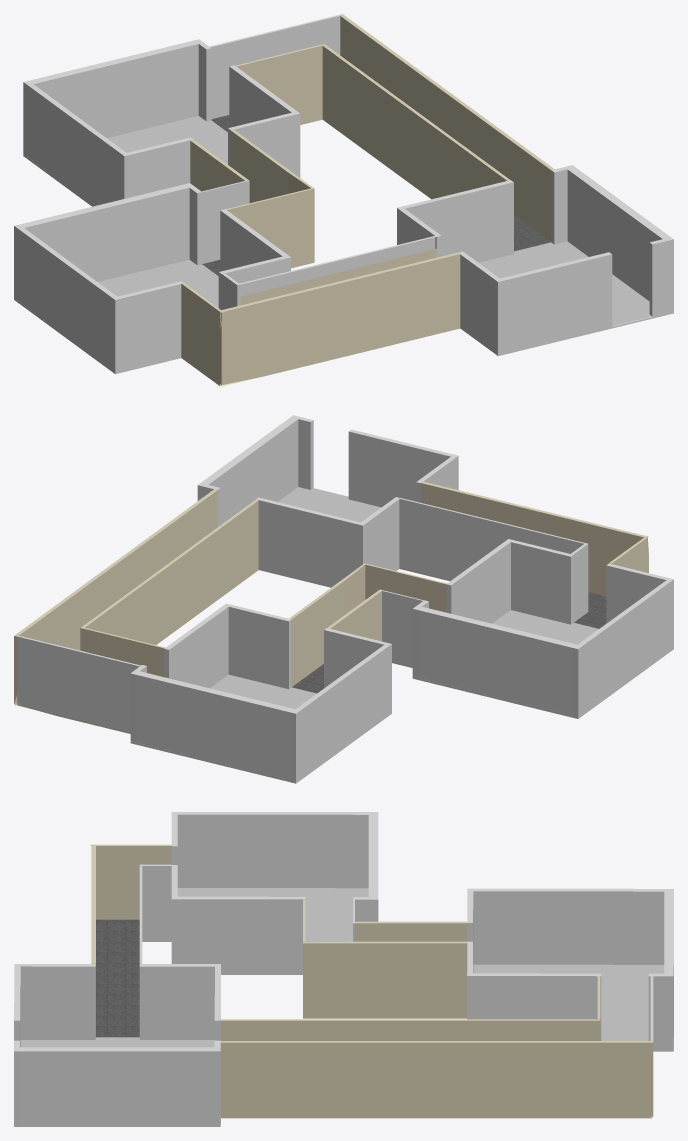
File: museum.fbx
The picture shows the model from 3 angles, top to bottom: view 1: azimuth 30°, elevation 25°; view 2: azimuth 150°, elevation 25°; view 3: azimuth 270°, elevation 25°; orthographic projection. The views are drawn at different scales.
Visible parts, largest first — view 1: Cube.003, Salle.002, couloir1.002, Salle, Salle.001, Salle.005, Salle.006, Cube.001, Salle.003, Cube.005, Cube.002, floor (+10 smaller); view 2: Cube.003, Salle.001, Salle, Salle.002, Salle.005, Salle.006, Salle.004, Cube.005, couloir1.003, Cube.001, couloir1.002, Salle.007 (+8 smaller); view 3: Cube.003, Salle, Salle.002, Salle.001, Cube.001, Salle.004, floor2.004, floor.001, couloir1.001, floor.002, Salle.006, couloir1.004 (+4 smaller).
Part boxes in pixels (x1,y1,x2,y2): Cube.003: [322, 14, 554, 241]; Salle.002: [459, 165, 673, 356]; couloir1.002: [219, 248, 460, 384]; Salle: [14, 209, 287, 374]; Salle.001: [23, 65, 300, 206]; Salle.005: [20, 183, 202, 281]; Salle.006: [29, 39, 211, 137]; Cube.001: [190, 130, 314, 268]; Salle.003: [405, 182, 513, 262]; Cube.005: [209, 15, 340, 118]; Cube.002: [235, 44, 322, 124]; floor: [479, 241, 651, 326]; Cube.003: [14, 489, 258, 708]; Salle.001: [130, 603, 391, 783]; Salle: [412, 541, 673, 718]; Salle.002: [197, 415, 458, 587]; Salle.005: [412, 600, 576, 716]; Salle.006: [130, 665, 294, 780]; Salle.004: [256, 497, 399, 586]; Cube.005: [17, 635, 140, 732]; couloir1.003: [399, 498, 584, 580]; Cube.001: [289, 563, 405, 687]; couloir1.002: [399, 481, 647, 596]; Salle.007: [506, 539, 573, 624]; Cube.003: [220, 1019, 653, 1118]; Salle: [171, 812, 378, 974]; Salle.002: [14, 964, 220, 1126]; Salle.001: [467, 888, 673, 1051]; Cube.001: [303, 921, 467, 1018]; Salle.004: [139, 964, 220, 1039]; floor2.004: [96, 919, 141, 1037]; floor.001: [473, 964, 673, 1049]; couloir1.001: [90, 844, 172, 919]; floor.002: [177, 888, 368, 942]; Salle.006: [648, 891, 673, 1050]; couloir1.004: [139, 864, 172, 941].
Size of the model in its own units: 3288 by 486 by 3831.
